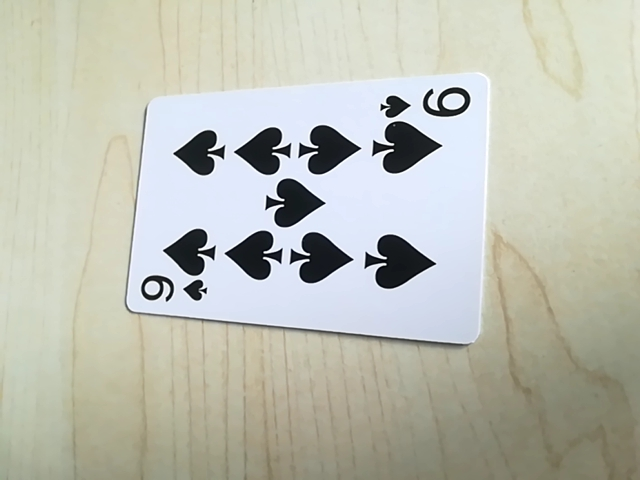ht 9: (375, 83, 474, 123), (131, 275, 211, 313)
